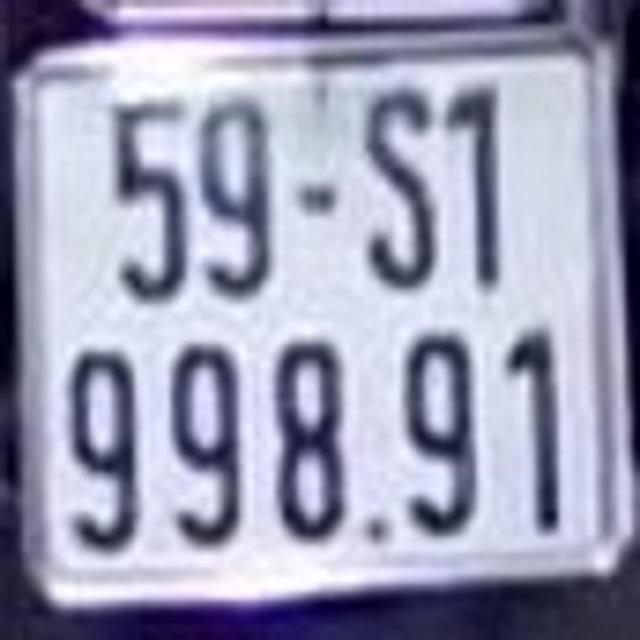1: (504, 319, 578, 538), (443, 73, 516, 290)
5: (113, 90, 194, 309)
8: (272, 327, 347, 548)
9: (65, 330, 143, 561), (198, 88, 276, 307), (167, 332, 244, 550), (404, 319, 478, 540)
S: (363, 81, 439, 290)
